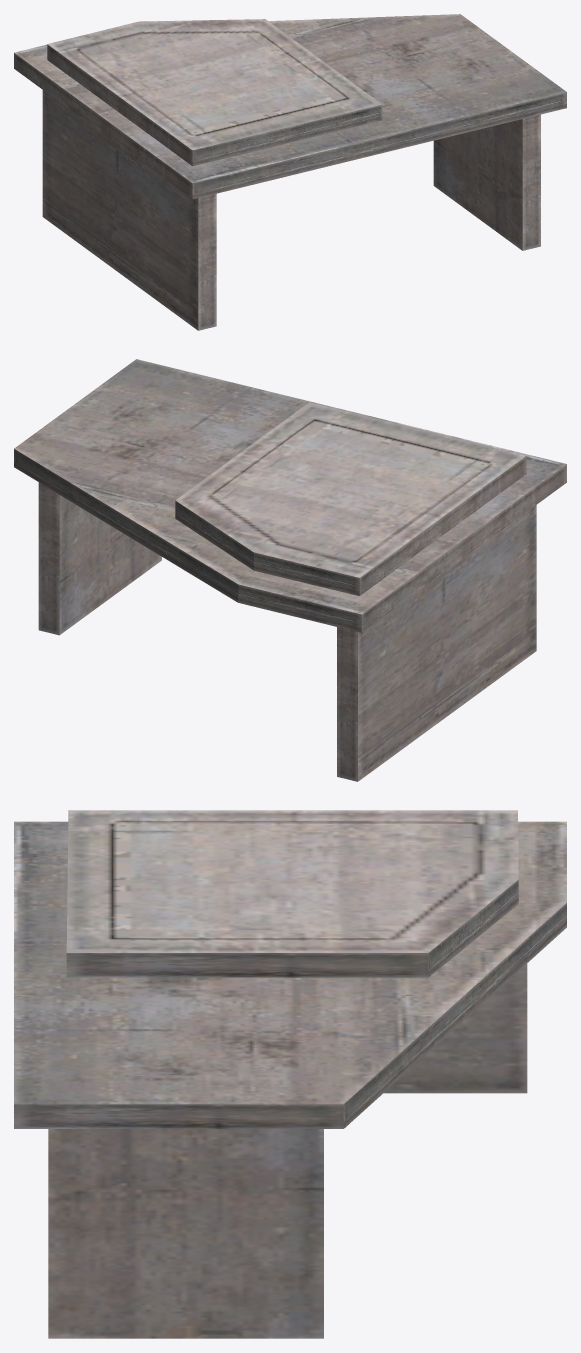
The model's file is frn_all_chep_end_table_s01.fbx.
3 views of the same model, one above another, from view 1: azimuth 30°, elevation 25°; view 2: azimuth 150°, elevation 25°; view 3: azimuth 270°, elevation 25° (orthographic). The views are drawn at different scales.
Visible parts, largest first — view 1: mesh_node; view 2: mesh_node; view 3: mesh_node.
Part boxes in pixels (x1=…): mesh_node: x1=14, y1=14, x2=566, y2=330; mesh_node: x1=14, y1=359, x2=566, y2=781; mesh_node: x1=14, y1=810, x2=566, y2=1338.
Size of the model in its own units: 1 by 0.448 by 0.8301.
